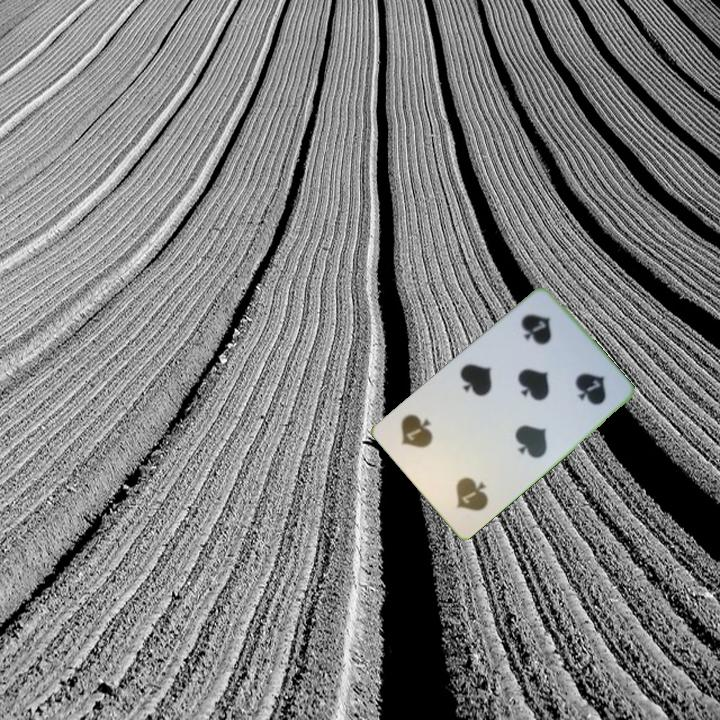s_7.png: (422, 442, 508, 528), (500, 296, 585, 382)
